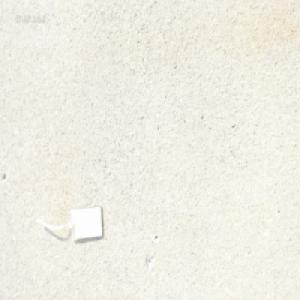LuggageTag: (36, 202, 104, 244)
